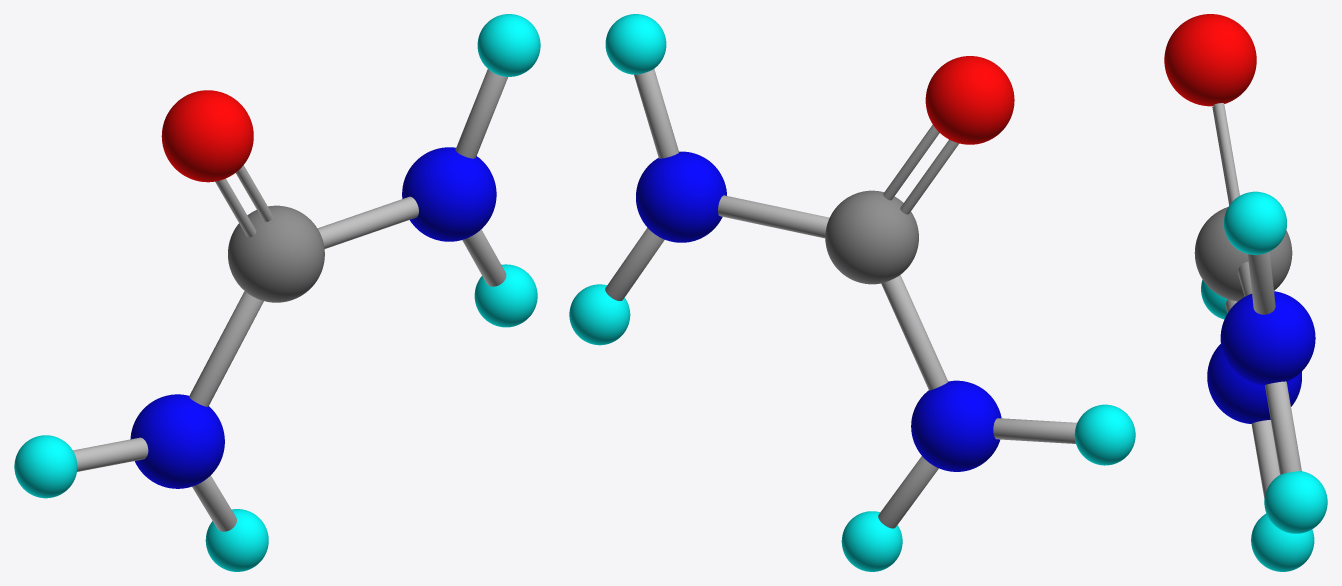
File: urea.glb
3 renders of one model, left to right at view 1: azimuth 30°, elevation 25°; view 2: azimuth 150°, elevation 25°; view 3: azimuth 270°, elevation 25°, orthographic. The views are drawn at different scales.
Visible parts, largest first — view 1: CMAtom_0, CMAtom_7, CMAtom_1, CMAtom_4, CMAtom_2, CMAtom_5, CMAtom_3, CMAtom_6, CMBond_5_Segment_0, CMBond_6_Segment_0, CMBond_1_Segment_0, CMBond_3_Segment_0 (+4 smaller); view 2: CMAtom_0, CMAtom_4, CMAtom_1, CMAtom_7, CMAtom_5, CMAtom_2, CMAtom_3, CMAtom_6, CMBond_5_Segment_0, CMBond_6_Segment_0, CMBond_1_Segment_0, CMBond_3_Segment_0 (+4 smaller); view 3: CMAtom_7, CMAtom_1, CMAtom_0, CMAtom_2, CMAtom_3, CMAtom_4, CMAtom_6, CMBond_2_Segment_0, CMBond_1_Segment_0, CMBond_4_Segment_0, CMBond_7_Segment_0, CMAtom_5 (+1 smaller).
Boxes of the visible parts, left/top/right/bottom form: CMAtom_0: left=228, top=205, right=324, bottom=302; CMAtom_7: left=161, top=90, right=253, bottom=182; CMAtom_1: left=402, top=147, right=496, bottom=241; CMAtom_4: left=130, top=394, right=224, bottom=488; CMAtom_2: left=477, top=14, right=540, bottom=76; CMAtom_5: left=14, top=435, right=77, bottom=498; CMAtom_3: left=474, top=264, right=537, bottom=327; CMAtom_6: left=205, top=509, right=268, bottom=571; CMBond_5_Segment_0: left=189, top=291, right=263, bottom=406; CMBond_6_Segment_0: left=317, top=196, right=418, bottom=248; CMBond_1_Segment_0: left=455, top=69, right=507, bottom=158; CMBond_3_Segment_0: left=73, top=437, right=148, bottom=471; CMAtom_0: left=825, top=190, right=918, bottom=284; CMAtom_4: left=911, top=380, right=1001, bottom=471; CMAtom_1: left=636, top=151, right=726, bottom=242; CMAtom_7: left=925, top=56, right=1014, bottom=144; CMAtom_5: left=1074, top=404, right=1135, bottom=465; CMAtom_2: left=605, top=14, right=666, bottom=74; CMAtom_3: left=569, top=284, right=630, bottom=345; CMAtom_6: left=841, top=511, right=902, bottom=571; CMBond_5_Segment_0: left=881, top=275, right=948, bottom=390; CMBond_6_Segment_0: left=718, top=195, right=829, bottom=238; CMBond_1_Segment_0: left=634, top=69, right=678, bottom=158; CMBond_3_Segment_0: left=993, top=418, right=1076, bottom=443; CMAtom_7: left=1164, top=14, right=1256, bottom=106; CMAtom_1: left=1220, top=291, right=1315, bottom=385; CMAtom_0: left=1194, top=207, right=1292, bottom=301; CMAtom_2: left=1224, top=191, right=1286, bottom=254; CMAtom_3: left=1264, top=471, right=1327, bottom=533; CMAtom_4: left=1207, top=344, right=1301, bottom=423; CMAtom_6: left=1251, top=513, right=1314, bottom=571; CMBond_2_Segment_0: left=1265, top=381, right=1301, bottom=474; CMBond_1_Segment_0: left=1247, top=251, right=1275, bottom=314; CMBond_4_Segment_0: left=1251, top=420, right=1279, bottom=498; CMBond_7_Segment_0: left=1213, top=103, right=1239, bottom=203; CMAtom_5: left=1201, top=280, right=1227, bottom=319.
Size of the model in its own units: 4 by 3.62 by 1.03.
